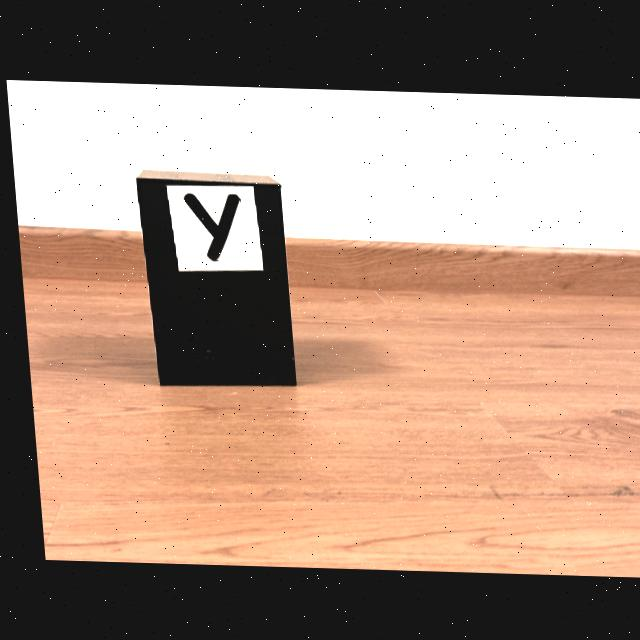Y: (181, 194, 237, 259)
